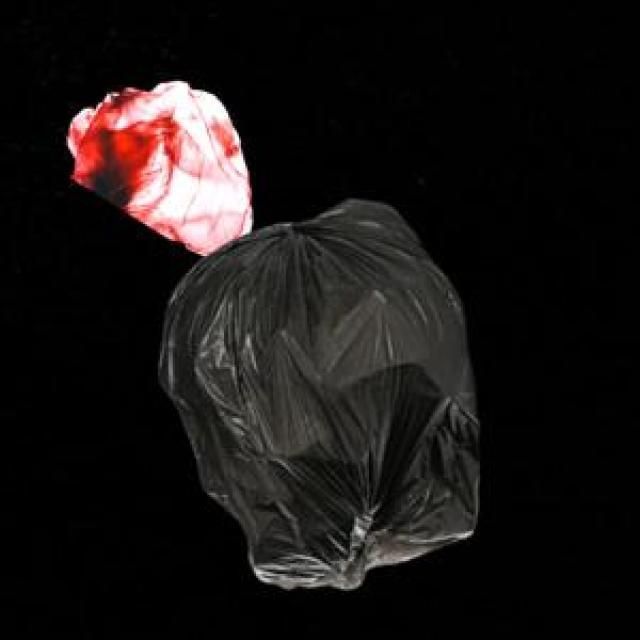miscellaneous trash: (156, 196, 476, 585)
